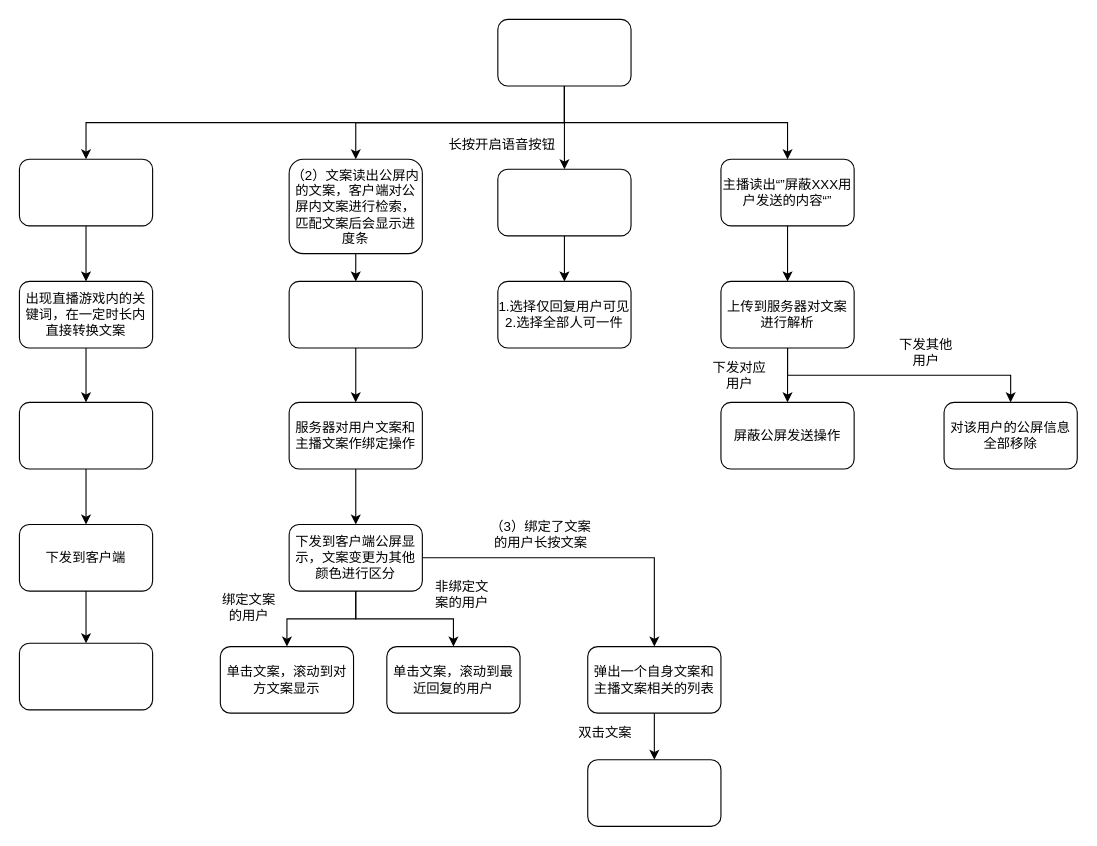
Image size: 1097x846. Some labels were removed from this diagram. Here are the shapes that lost their labels. From the top down, the centre of each, then its label:
(564,52): 开启游戏频道内语音回复公屏功能
(85,192): （1）上传服务器内 进行语义分析
(564,202): （4）弹出一个功能选择菜单
(355,314): 读出文案超过50% 上传标志位到服务器
(85,435): 过滤或替换敏感词
(85,676): 添加到直播公屏显示
(654,792): 公屏滚动到对应文案周围
